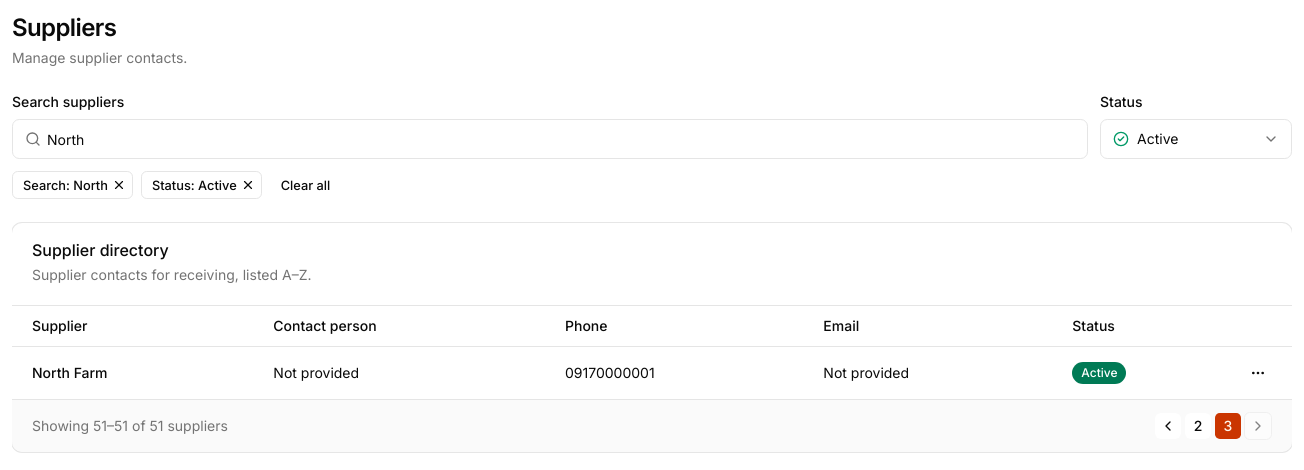
Test: catalog directories › removes applied chips independently, clears all and restores focus
The width and height of the screenshot is (1304, 470).
Click the button with aria-label "Remove status: Active" at (201, 185), box left=141, top=171, right=262, bottom=199
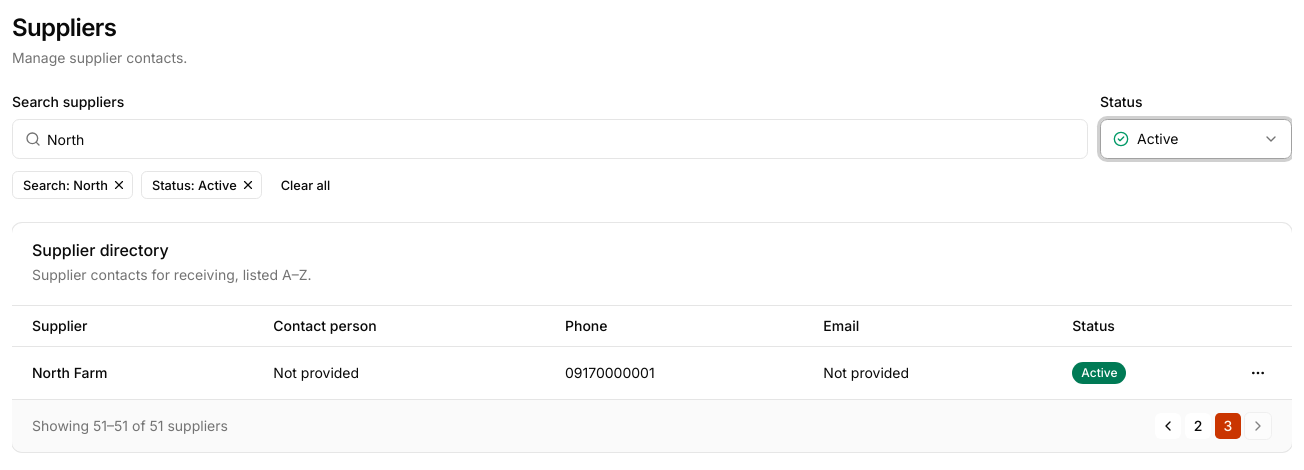
Click the button "Clear all" at (306, 185), box left=270, top=171, right=341, bottom=199
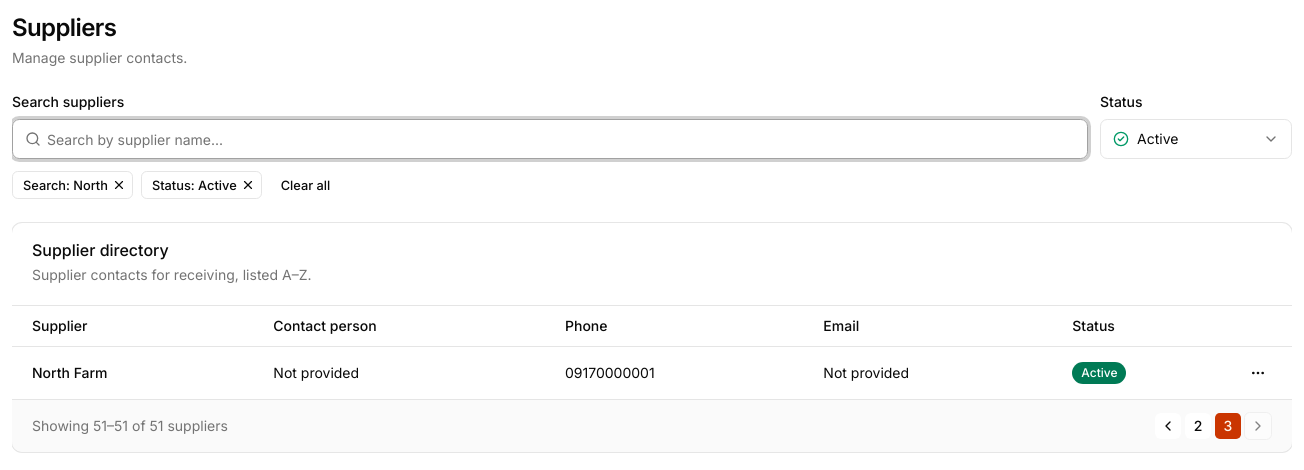
Check: the search field labelled "Search suppliers" is empty, box left=41, top=120, right=1087, bottom=158
